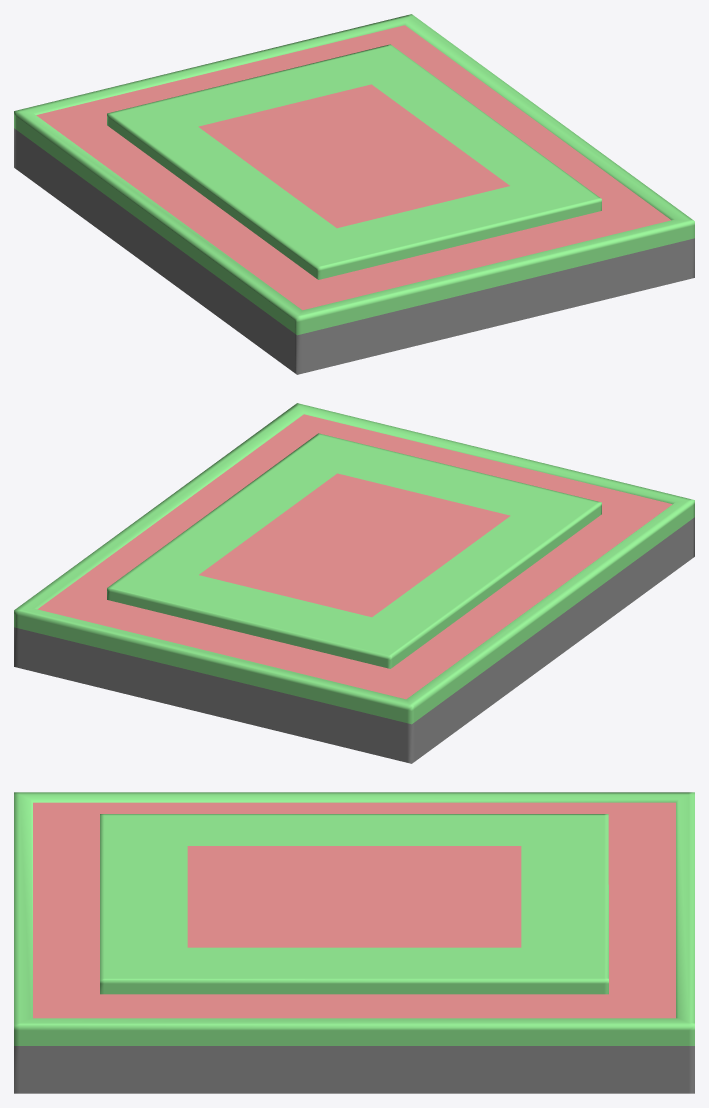
File: CHN_SmallBase01.gltf
3 views of the same model, one above another, from view 1: azimuth 30°, elevation 25°; view 2: azimuth 150°, elevation 25°; view 3: azimuth 270°, elevation 25° (orthographic). The views are drawn at different scales.
Visible parts, largest first — view 1: CHN_SmallBase01; view 2: CHN_SmallBase01; view 3: CHN_SmallBase01.
Boxes of the visible parts, left/top/right/bottom form: CHN_SmallBase01: left=14, top=14, right=694, bottom=374; CHN_SmallBase01: left=14, top=403, right=694, bottom=763; CHN_SmallBase01: left=14, top=792, right=694, bottom=1093.
Bounding box in the file's own units: 18.03 × 2.88 × 22.23.
